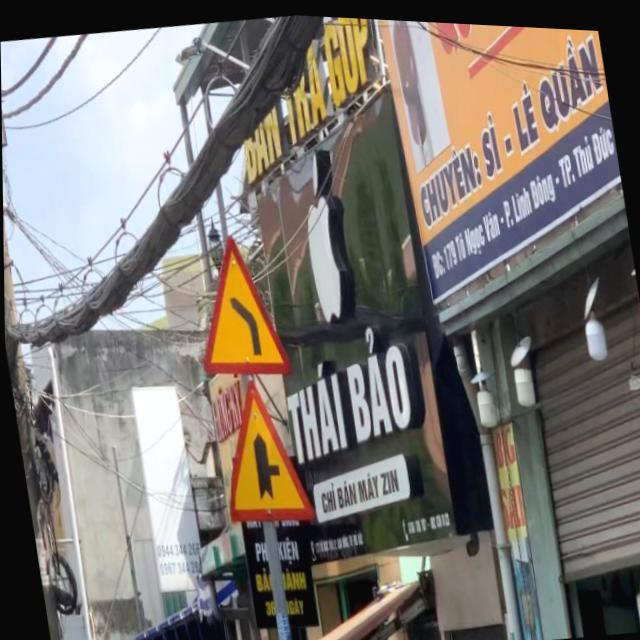Giao nhau voi duong khong uu tien ben phai: (204, 360, 318, 532)
cho ngoat nguy hiem vong ben trai: (179, 221, 296, 391)
